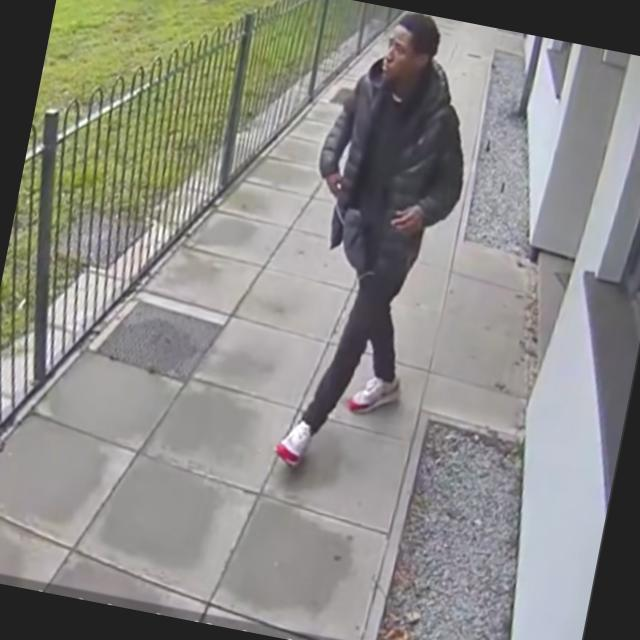person: (260, 0, 492, 483)
